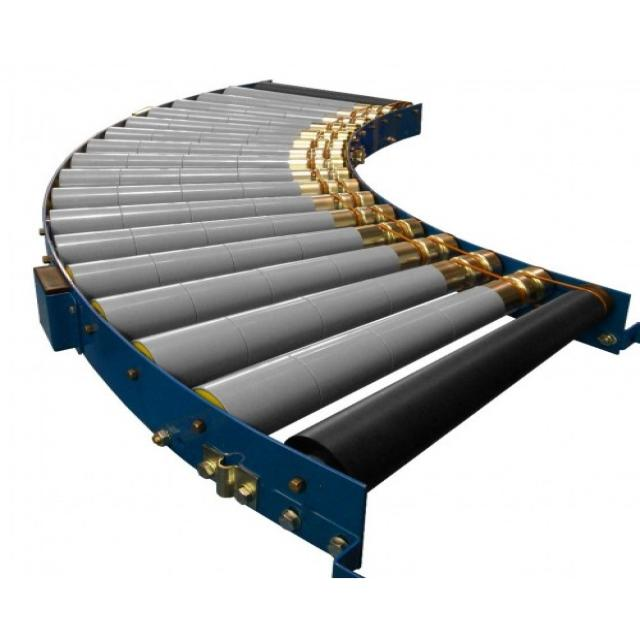Convoyeur: (29, 66, 640, 568)
